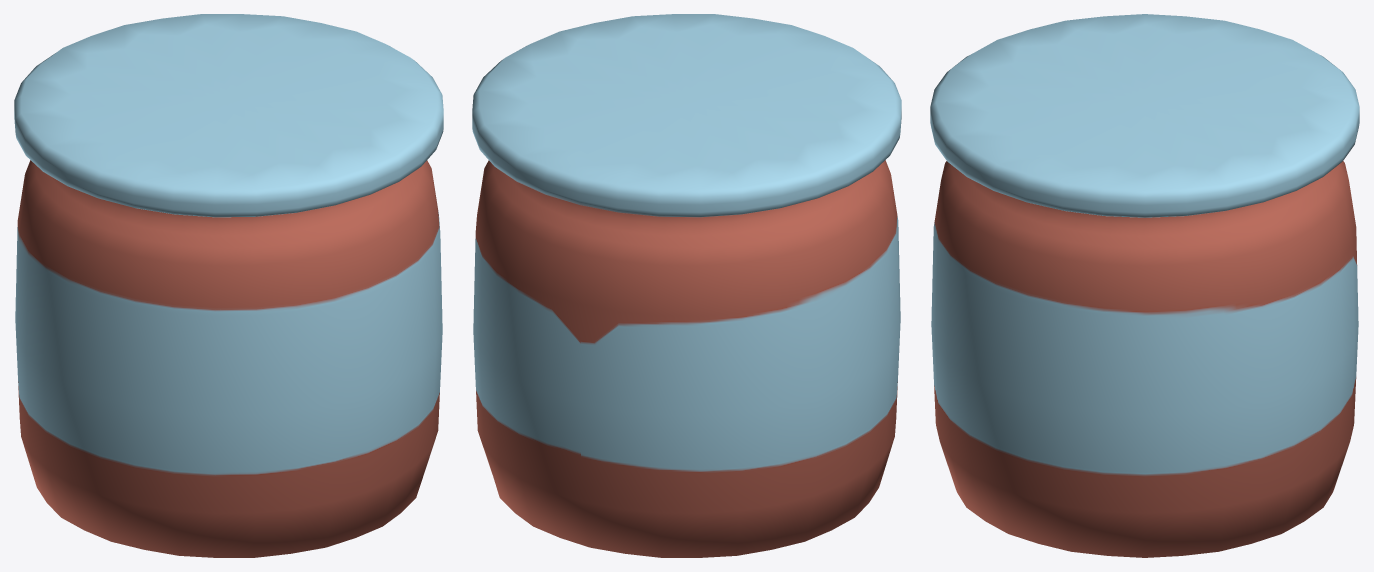
The model's file is Flask.glb.
3 views of the same model, side by side, from view 1: azimuth 30°, elevation 25°; view 2: azimuth 150°, elevation 25°; view 3: azimuth 270°, elevation 25° (orthographic).
Visible parts, largest first — view 1: Flask; view 2: Flask; view 3: Flask.
Part boxes in pixels (bbox=[...]): Flask: bbox=[14, 14, 443, 557]; Flask: bbox=[472, 14, 901, 557]; Flask: bbox=[930, 14, 1359, 557].
Size of the model in its own units: 0.1949 by 0.1994 by 0.1949.
1 material, 1 textured.
